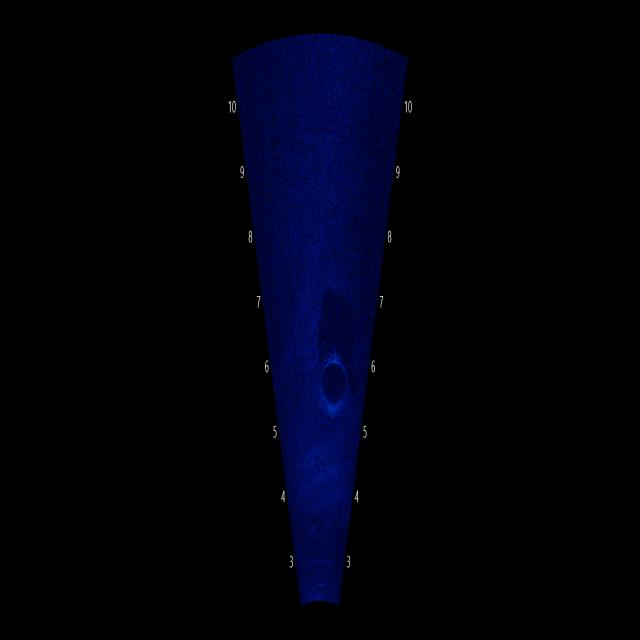circle: (310, 336, 358, 422)
